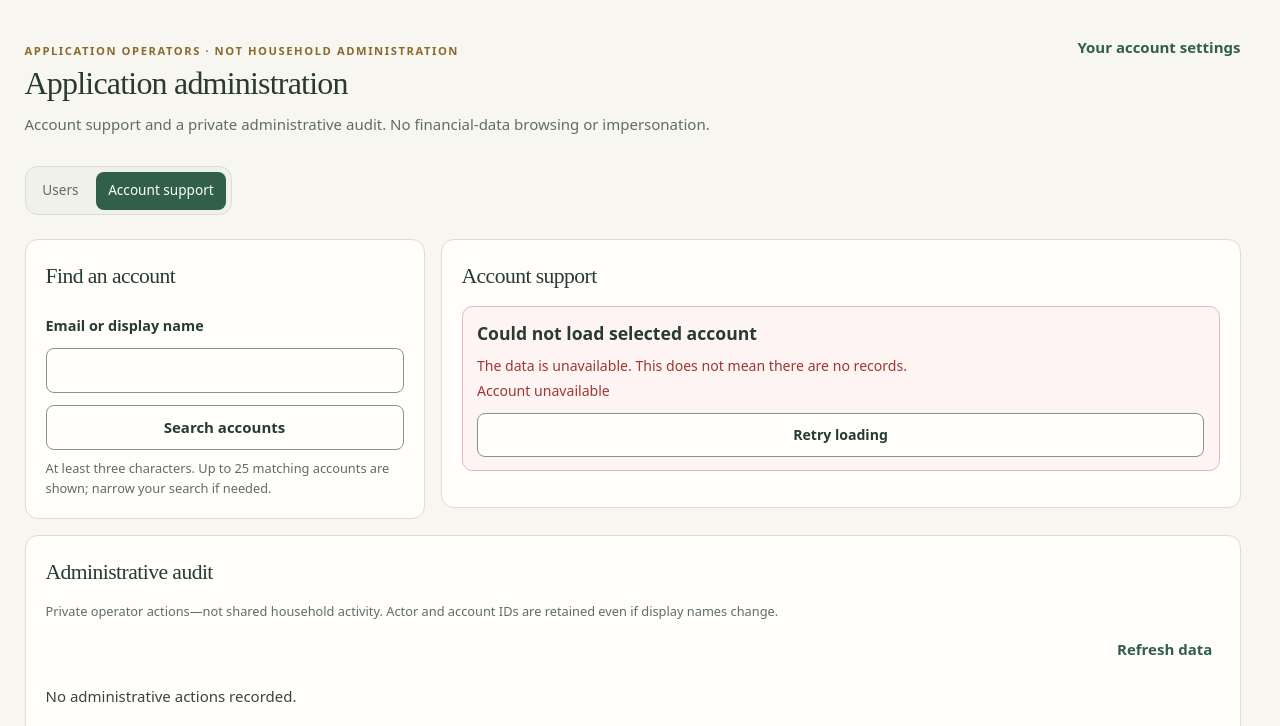
Test: application administration › ends loading and permits explicit retry if the directory-linked account fails to load
Expected: the text "Account unavailable" is shown, [477,381,610,400]
Expected: the field labelled "Support action" is not shown
Click the button "Retry loading": (840, 435) [477,413,1204,457]
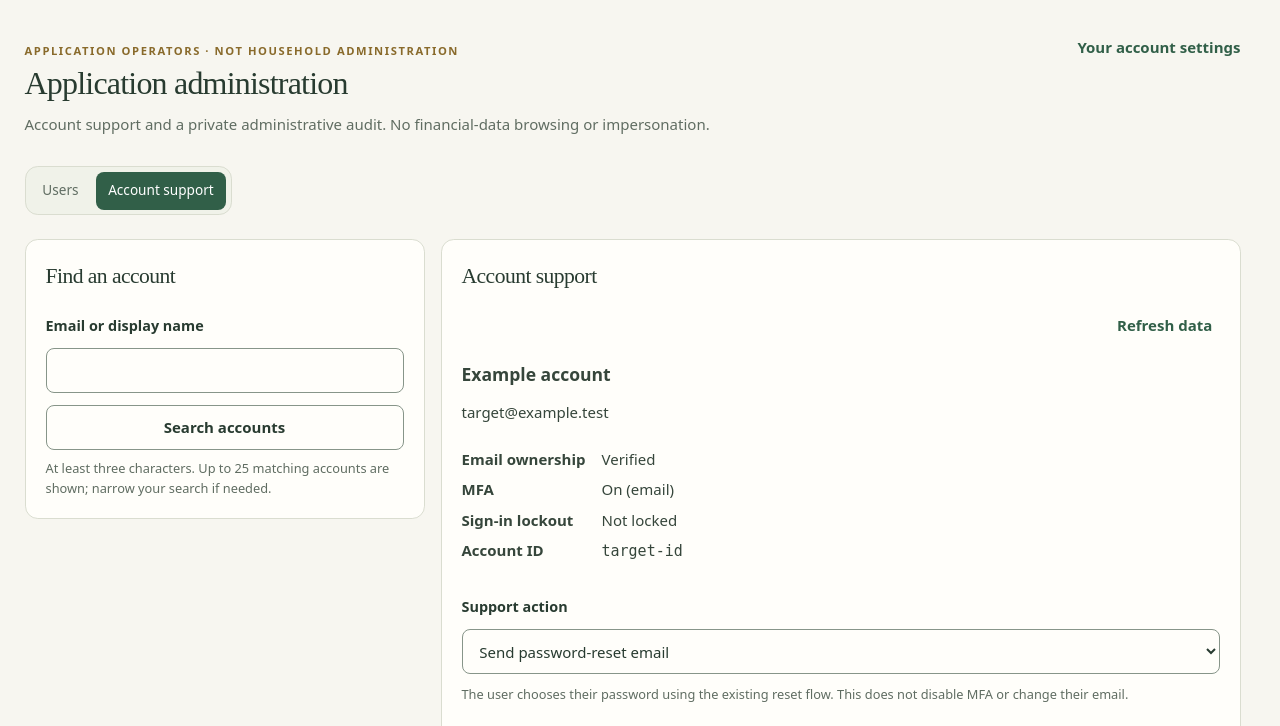
Expected: the dropdown labelled "Support action" is shown, [462,629,1220,674]
